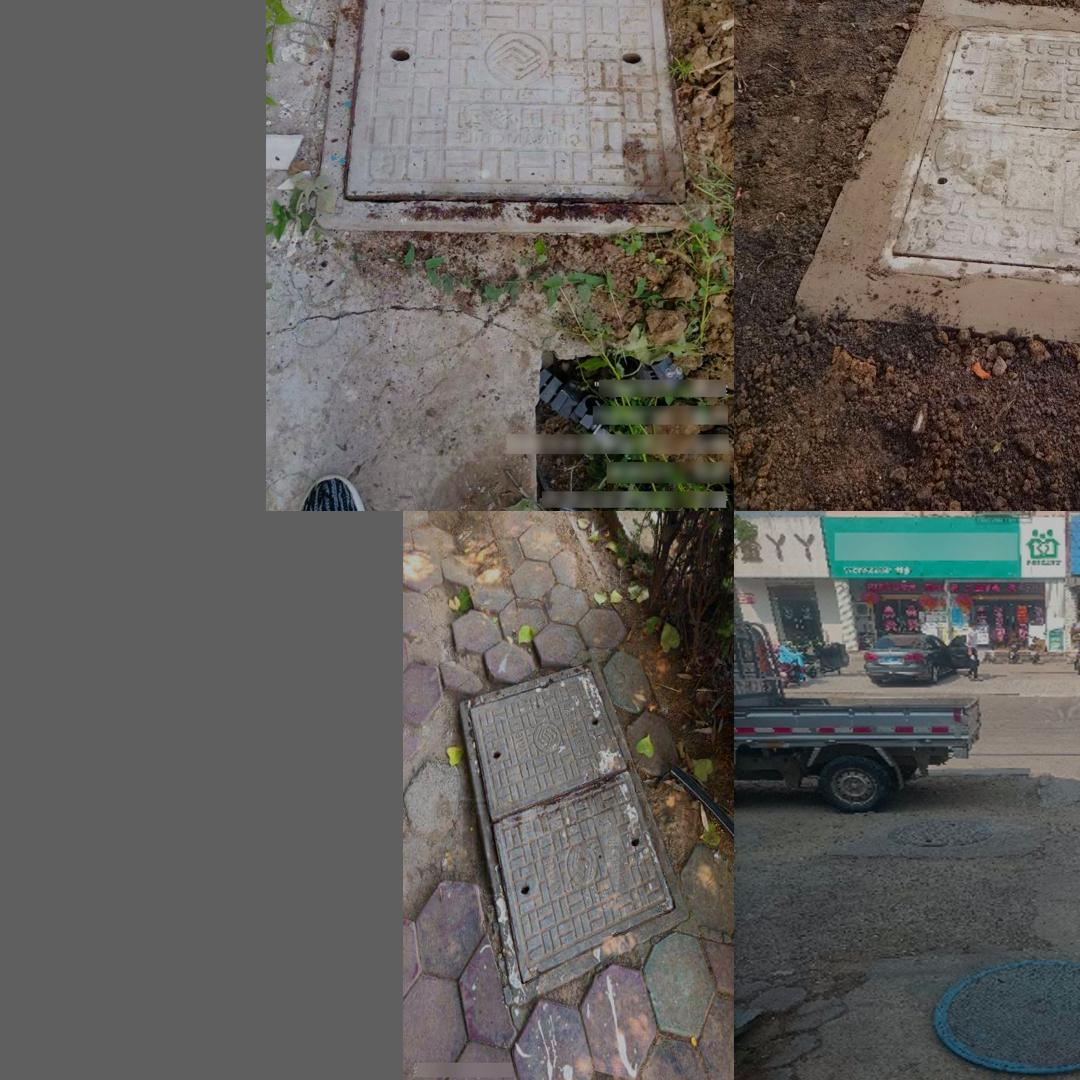good: (311, 0, 695, 230), (460, 659, 689, 1004), (876, 21, 1080, 280), (931, 958, 1080, 1073)
